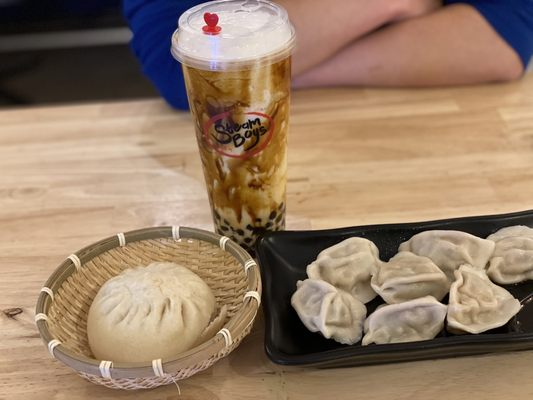sushi: (260, 219, 532, 375), (34, 224, 262, 392)
